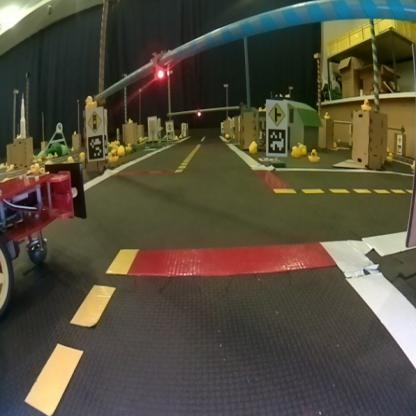duckie: (306, 140, 320, 170), (85, 92, 98, 116)
duckiebot: (0, 136, 94, 336)
